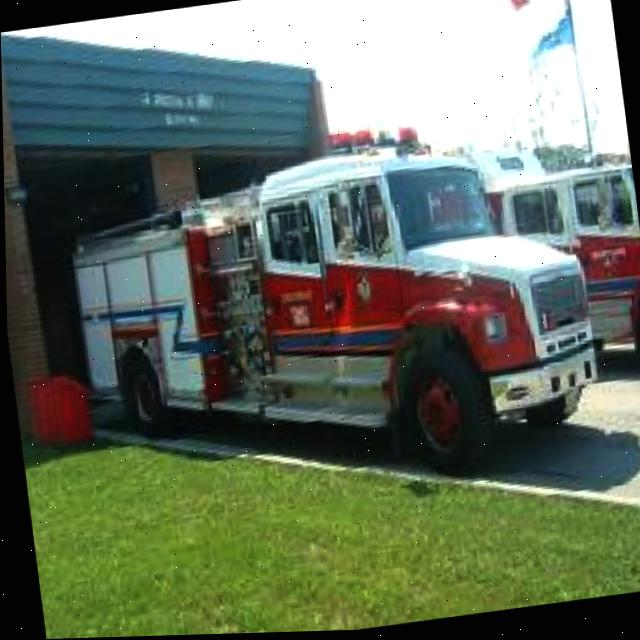emergency: (44, 110, 609, 511)
